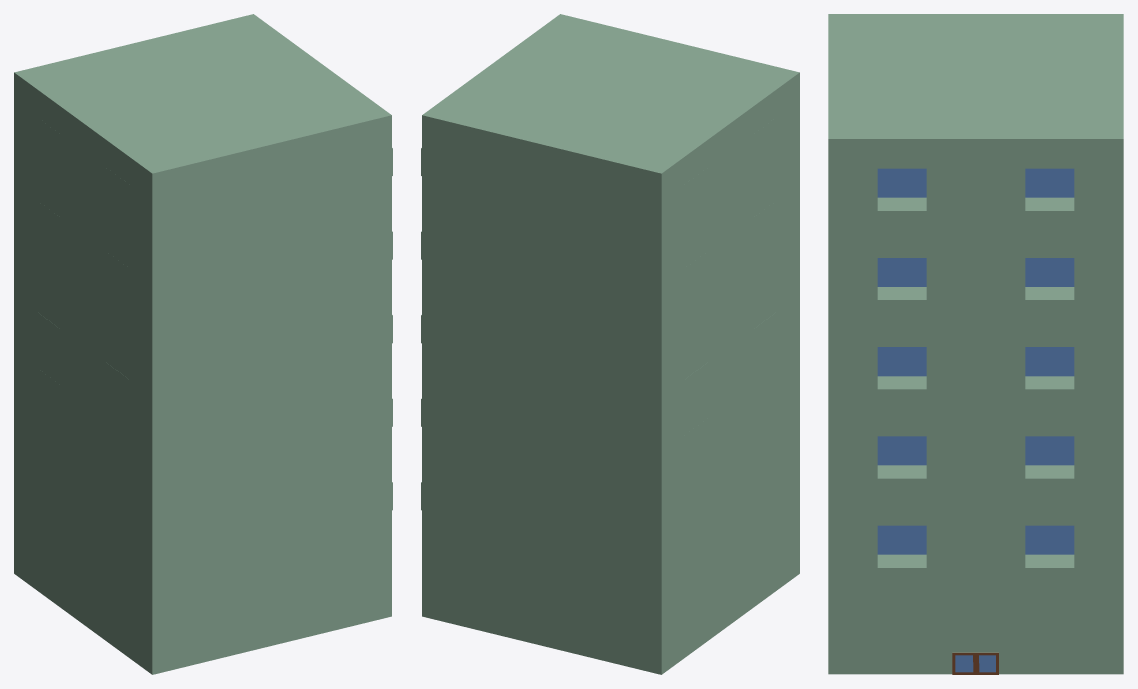
File: predio5.fbx
3 views of the same model, side by side, from view 1: azimuth 30°, elevation 25°; view 2: azimuth 150°, elevation 25°; view 3: azimuth 270°, elevation 25° (orthographic). The views are drawn at different scales.
Visible parts, largest first — view 1: Cube; view 2: Cube; view 3: Cube.
Boxes of the visible parts, x1,y1,x2,y2 form: Cube: (14, 14, 392, 674); Cube: (421, 14, 799, 674); Cube: (828, 14, 1123, 674).
Bounding box in the file's own units: 220 × 400 × 200.
